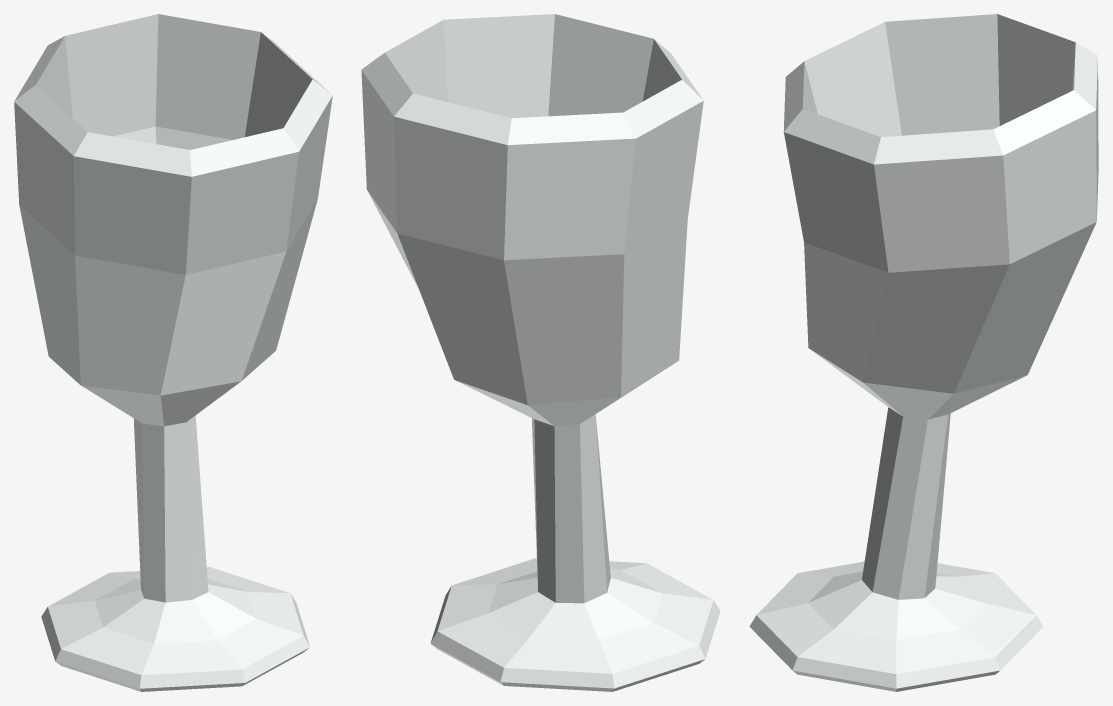
The model's file is Verre_clean.fbx.
3 views of the same model, side by side, from view 1: azimuth 30°, elevation 25°; view 2: azimuth 150°, elevation 25°; view 3: azimuth 270°, elevation 25° (orthographic). The views are drawn at different scales.
Visible parts, largest first — view 1: Verre.clean; view 2: Verre.clean; view 3: Verre.clean.
Boxes of the visible parts, left/top/right/bottom form: Verre.clean: left=14, top=14, right=332, bottom=691; Verre.clean: left=361, top=14, right=720, bottom=691; Verre.clean: left=749, top=14, right=1098, bottom=691.
Size of the model in its own units: 33.07 by 64.27 by 35.25.
